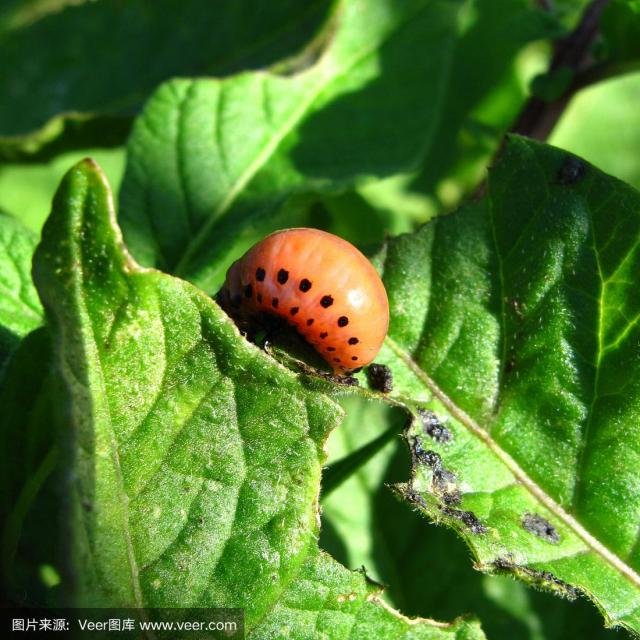ShuCaiHuaBanChong-Larva-: (194, 204, 422, 407)
